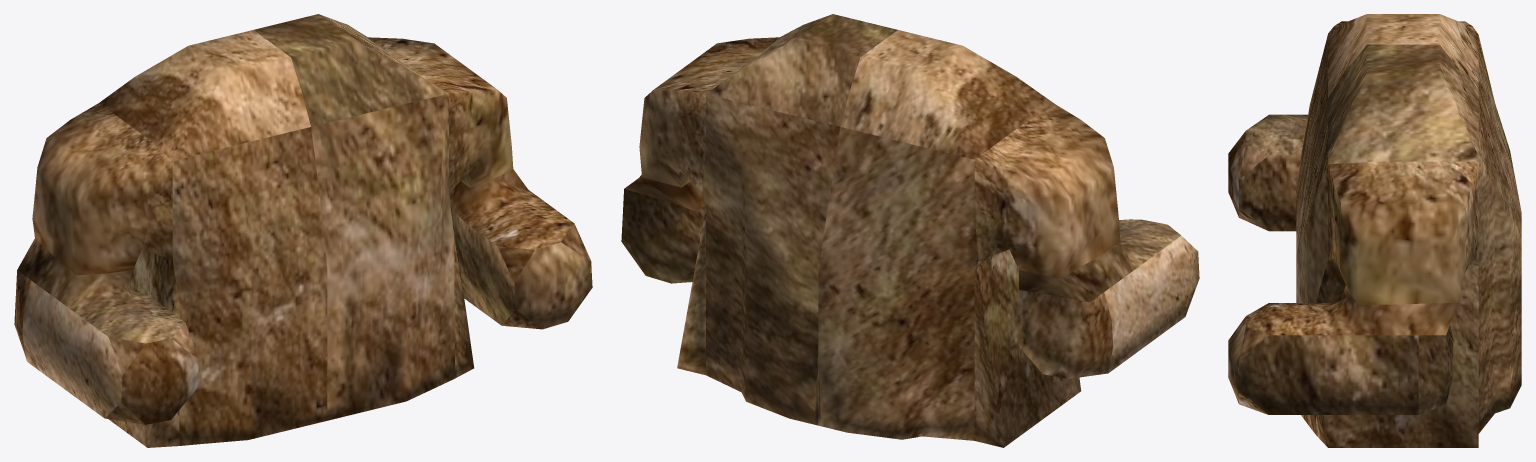
Rendered from golem_ascii.FBX.
3 views of the same model, side by side, from view 1: azimuth 30°, elevation 25°; view 2: azimuth 150°, elevation 25°; view 3: azimuth 270°, elevation 25° (orthographic). The views are drawn at different scales.
Visible parts, largest first — view 1: Box002; view 2: Box002; view 3: Box002.
Part boxes in pixels (left/top/right/bottom): Box002: left=14, top=14, right=592, bottom=447; Box002: left=621, top=14, right=1199, bottom=447; Box002: left=1228, top=14, right=1521, bottom=447.
Size of the model in its own units: 180 by 120 by 97.49.
Materials: 1 (1 with a texture image).
